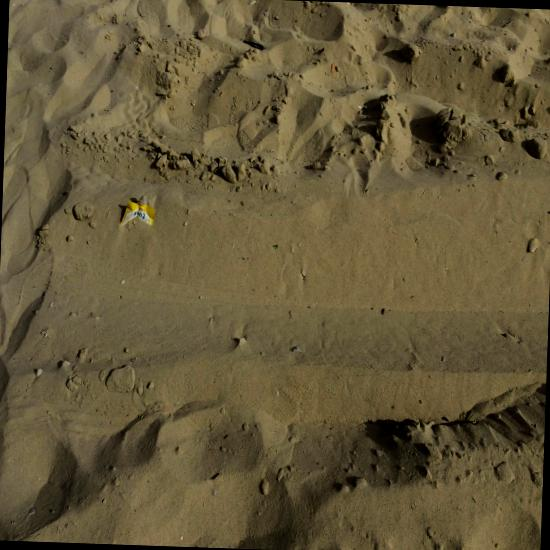Plastic straw: (243, 40, 265, 49)
Squeezable tube: (120, 193, 155, 226)
